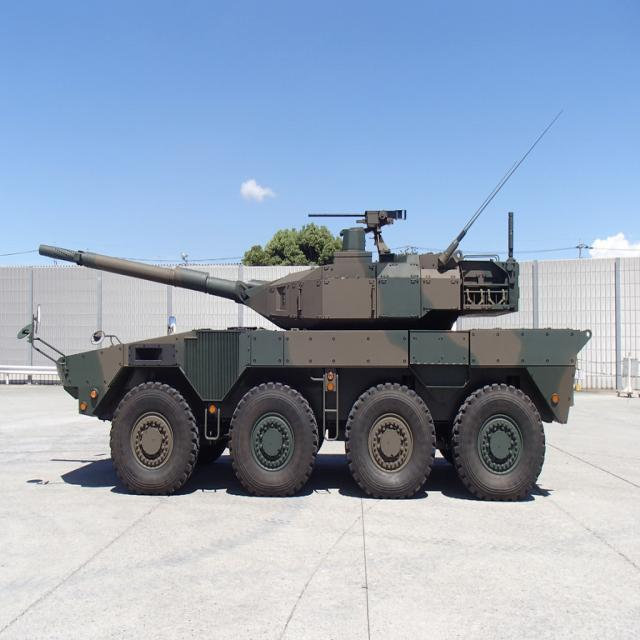tank: (17, 110, 592, 498)
